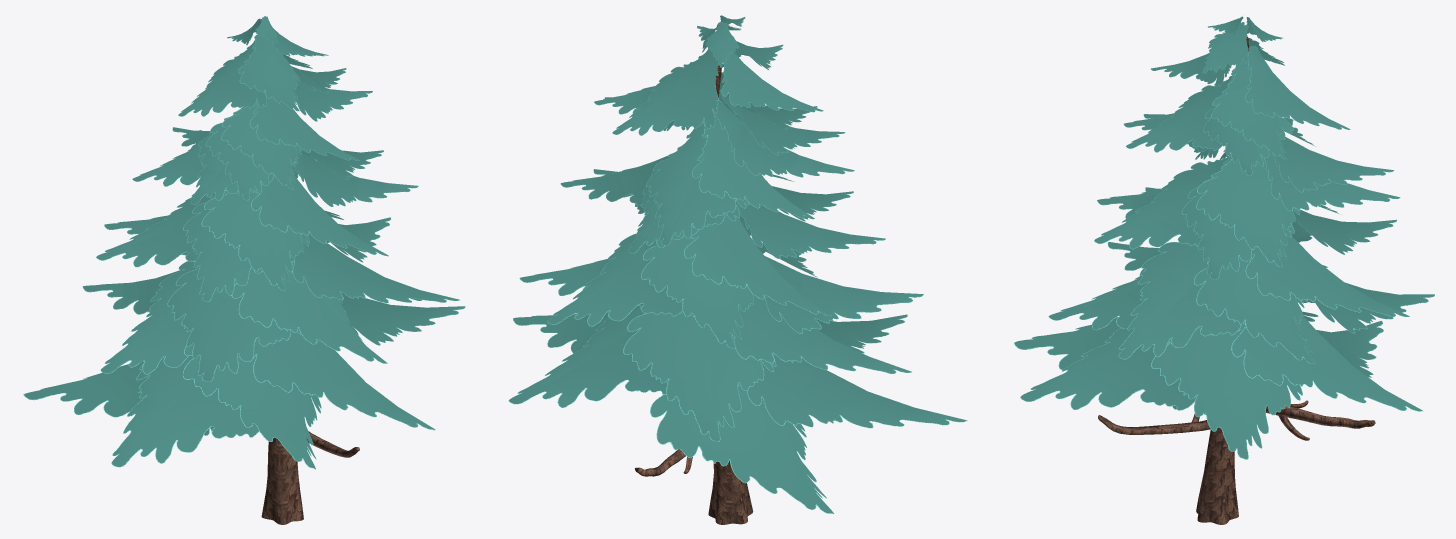
Rendered from gtree_pine_2.glb.
The picture shows the model from 3 angles, left to right: view 1: azimuth 30°, elevation 25°; view 2: azimuth 150°, elevation 25°; view 3: azimuth 270°, elevation 25°; orthographic projection. The views are drawn at different scales.
Visible parts, largest first — view 1: model; view 2: model; view 3: model.
Part boxes in pixels (<box>): model: <box>23,16,465,524</box>; model: <box>508,15,967,524</box>; model: <box>1014,16,1434,524</box>.
Size of the model in its own units: 6.44 by 7.41 by 5.87.
Materials: 2 (2 with a texture image).
